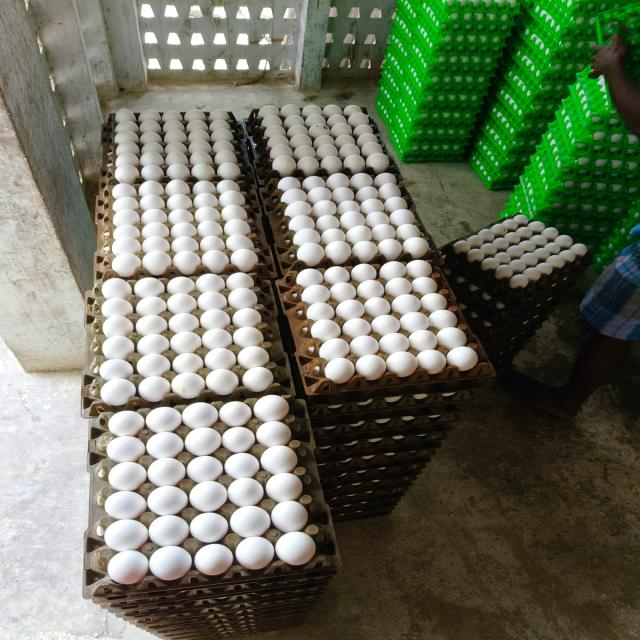egg_tray: (85, 396, 337, 596), (82, 272, 292, 416), (277, 260, 492, 394), (262, 173, 439, 272), (95, 180, 274, 277), (445, 258, 588, 366), (94, 205, 274, 277), (92, 563, 336, 616), (443, 214, 591, 301), (245, 104, 398, 184), (108, 584, 325, 640), (109, 584, 325, 640), (101, 109, 252, 187), (94, 572, 331, 619), (316, 424, 453, 502), (101, 120, 253, 188), (305, 372, 493, 426), (306, 375, 491, 428), (305, 376, 490, 428), (245, 104, 388, 170), (137, 590, 322, 640), (121, 587, 325, 632), (444, 267, 573, 338), (110, 582, 325, 623), (543, 104, 639, 194), (307, 380, 484, 428), (101, 132, 252, 188), (131, 596, 318, 640), (101, 137, 252, 190), (96, 178, 259, 226), (532, 124, 639, 197), (444, 267, 562, 333), (96, 177, 259, 224), (314, 414, 457, 467), (458, 290, 563, 362), (259, 172, 415, 220), (313, 413, 459, 463), (314, 414, 457, 465), (385, 74, 489, 144), (312, 412, 459, 460), (275, 232, 427, 278), (522, 0, 626, 67), (511, 175, 628, 232), (523, 145, 637, 201), (321, 458, 430, 516), (102, 110, 245, 154), (137, 605, 312, 640), (311, 404, 460, 445), (316, 425, 450, 470), (321, 450, 434, 503), (557, 74, 636, 148), (137, 608, 311, 640), (475, 107, 548, 182), (394, 93, 480, 156), (458, 292, 562, 344), (163, 605, 312, 640), (136, 610, 309, 640), (312, 412, 459, 447), (521, 158, 637, 202), (244, 104, 379, 139), (321, 456, 430, 499), (317, 443, 436, 480), (315, 431, 447, 464), (322, 460, 428, 501), (470, 311, 549, 366), (138, 614, 303, 640), (470, 310, 550, 363), (540, 204, 627, 252), (500, 62, 568, 120), (103, 108, 243, 135), (471, 316, 541, 370), (558, 154, 638, 198), (321, 460, 429, 492), (327, 474, 417, 511), (487, 86, 553, 135), (327, 475, 417, 510), (597, 3, 639, 77), (398, 113, 475, 153), (323, 464, 425, 494), (548, 194, 628, 232), (571, 74, 625, 130), (593, 205, 639, 270), (544, 214, 620, 253), (326, 482, 411, 512), (390, 130, 467, 162), (493, 86, 556, 125), (327, 485, 410, 510), (470, 150, 521, 189), (331, 496, 402, 522), (332, 498, 401, 522), (333, 499, 399, 522), (487, 338, 528, 371), (412, 135, 467, 158), (334, 502, 397, 522), (131, 621, 197, 640), (136, 623, 201, 640), (491, 344, 524, 371), (417, 236, 441, 267), (521, 192, 551, 215), (204, 623, 249, 638), (209, 623, 240, 638), (598, 150, 623, 160), (390, 130, 405, 143), (609, 163, 636, 170), (115, 142, 138, 150), (143, 143, 162, 149), (480, 345, 487, 358), (143, 143, 161, 148), (320, 166, 332, 173), (182, 632, 196, 638), (394, 83, 403, 92), (212, 132, 227, 137), (629, 135, 637, 144), (276, 226, 287, 232), (361, 455, 374, 460), (308, 212, 320, 217), (316, 206, 323, 214), (520, 176, 524, 190), (253, 623, 261, 630), (564, 118, 570, 127), (626, 186, 636, 191), (552, 155, 559, 162), (271, 624, 282, 628), (581, 173, 588, 179), (618, 214, 625, 220), (395, 68, 402, 74), (198, 623, 202, 633), (596, 163, 604, 168), (318, 460, 324, 466), (431, 113, 443, 116), (543, 58, 548, 65), (297, 167, 304, 172), (224, 136, 231, 141), (392, 388, 400, 392), (421, 114, 429, 118), (222, 129, 230, 133), (116, 216, 124, 220), (538, 44, 542, 52), (527, 188, 532, 194), (458, 285, 464, 290), (197, 132, 207, 135), (583, 160, 589, 165), (614, 133, 624, 136), (326, 490, 331, 495), (337, 468, 343, 472), (167, 134, 175, 137), (405, 436, 411, 440), (466, 310, 470, 316), (391, 390, 399, 393), (372, 470, 377, 474), (151, 630, 157, 633), (459, 285, 465, 288), (165, 634, 171, 637), (434, 435, 438, 439), (551, 305, 554, 310), (474, 113, 477, 118), (425, 114, 430, 117), (385, 76, 388, 81), (198, 627, 201, 632), (553, 161, 556, 166), (636, 156, 639, 160), (363, 496, 367, 499), (413, 243, 417, 246), (189, 634, 193, 637), (531, 63, 534, 67), (218, 216, 221, 220), (352, 515, 358, 517), (573, 228, 579, 230), (579, 133, 583, 136), (184, 149, 188, 152), (177, 636, 180, 640), (367, 456, 373, 458), (293, 130, 296, 134), (122, 132, 132, 133), (119, 216, 124, 218), (390, 67, 392, 72), (294, 369, 297, 372), (203, 217, 206, 220), (380, 84, 383, 87), (569, 228, 572, 231), (407, 482, 410, 485), (549, 215, 552, 218), (416, 221, 420, 223), (167, 128, 171, 130), (452, 147, 454, 151), (214, 150, 218, 152), (327, 490, 329, 493), (230, 210, 233, 212), (120, 221, 123, 223), (466, 283, 468, 286), (591, 158, 594, 160), (276, 172, 278, 175), (541, 218, 543, 221), (630, 182, 633, 184), (558, 160, 561, 162), (363, 131, 369, 132), (537, 155, 539, 158), (294, 229, 299, 230), (441, 107, 446, 108), (136, 153, 141, 154), (350, 458, 352, 460), (294, 372, 296, 374), (437, 418, 439, 420), (466, 311, 468, 313), (518, 290, 522, 291), (223, 130, 227, 131), (473, 294, 475, 296), (483, 294, 487, 295), (466, 293, 468, 295), (630, 158, 632, 160), (415, 440, 417, 442), (434, 426, 436, 428), (279, 626, 281, 628), (223, 628, 225, 630), (352, 459, 355, 460), (297, 213, 300, 214), (615, 207, 618, 208), (140, 131, 143, 132), (199, 220, 202, 221), (165, 220, 168, 221), (484, 294, 487, 295), (460, 107, 463, 108), (263, 167, 266, 168), (118, 211, 121, 212), (154, 631, 157, 632), (364, 140, 367, 141), (443, 385, 445, 386), (601, 186, 603, 187), (601, 187, 603, 188), (567, 162, 568, 164), (466, 310, 468, 311), (181, 129, 183, 130), (222, 218, 224, 219), (467, 283, 468, 285), (510, 158, 512, 159), (492, 112, 494, 113), (558, 288, 559, 290), (551, 308, 552, 310), (518, 138, 520, 139), (400, 176, 401, 178), (267, 627, 269, 628), (637, 158, 639, 159), (198, 580, 199, 582), (481, 347, 482, 348), (545, 216, 546, 217), (330, 243, 331, 244), (167, 620, 168, 621), (454, 256, 455, 257), (501, 305, 502, 306), (342, 445, 343, 446), (625, 3, 626, 4), (618, 185, 619, 186), (639, 148, 639, 150), (576, 168, 577, 168), (483, 350, 483, 350), (565, 205, 565, 206), (574, 76, 574, 78), (204, 134, 205, 134), (134, 134, 134, 134), (117, 134, 120, 134), (139, 214, 139, 214), (416, 141, 417, 141), (271, 170, 272, 170), (334, 168, 334, 168), (528, 185, 528, 186), (562, 232, 564, 232), (510, 201, 510, 202), (242, 632, 244, 632), (201, 623, 201, 624), (638, 150, 640, 150), (407, 442, 407, 443), (318, 452, 319, 452), (250, 630, 250, 630)
